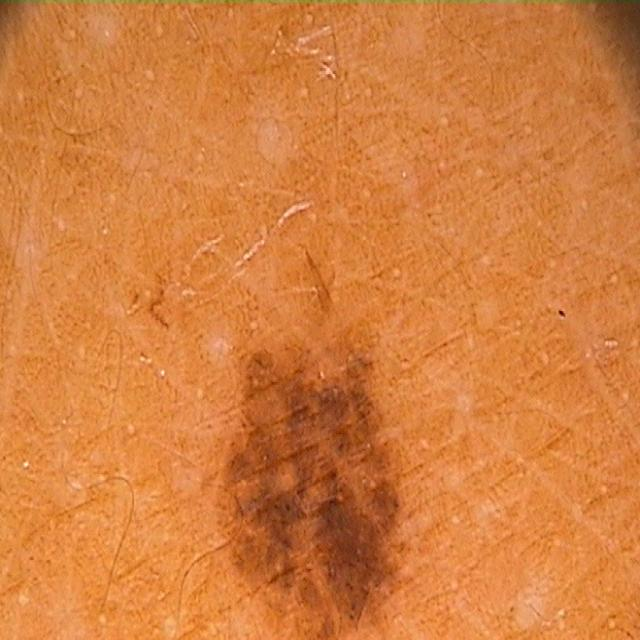Melanoma: (186, 246, 444, 640)
